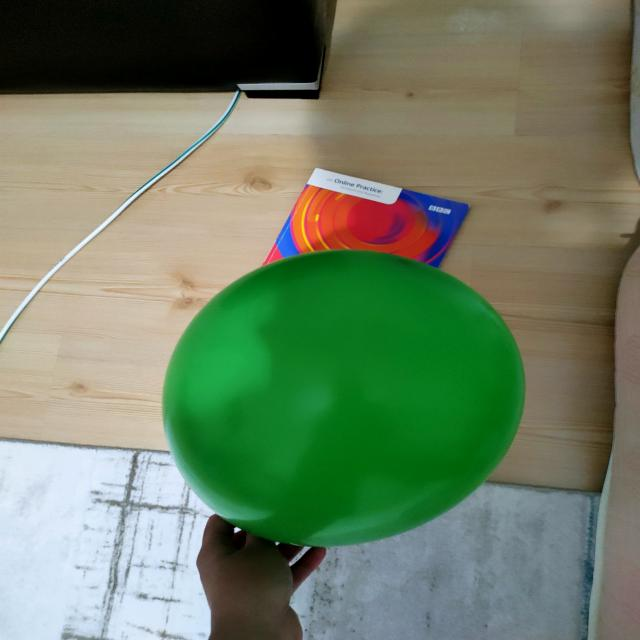green: (165, 248, 533, 549)
